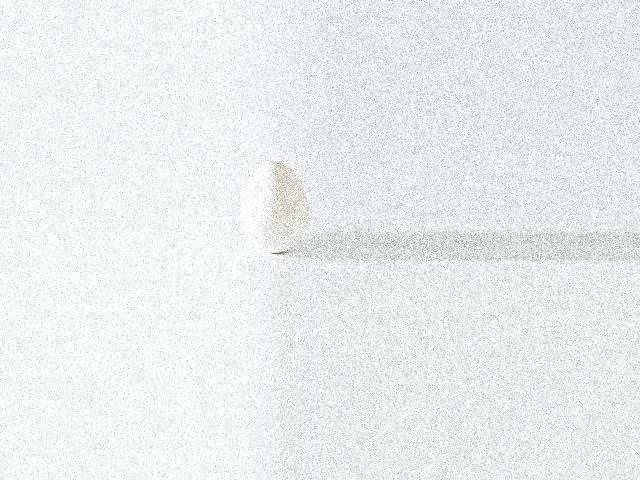egg: (239, 160, 307, 253)
